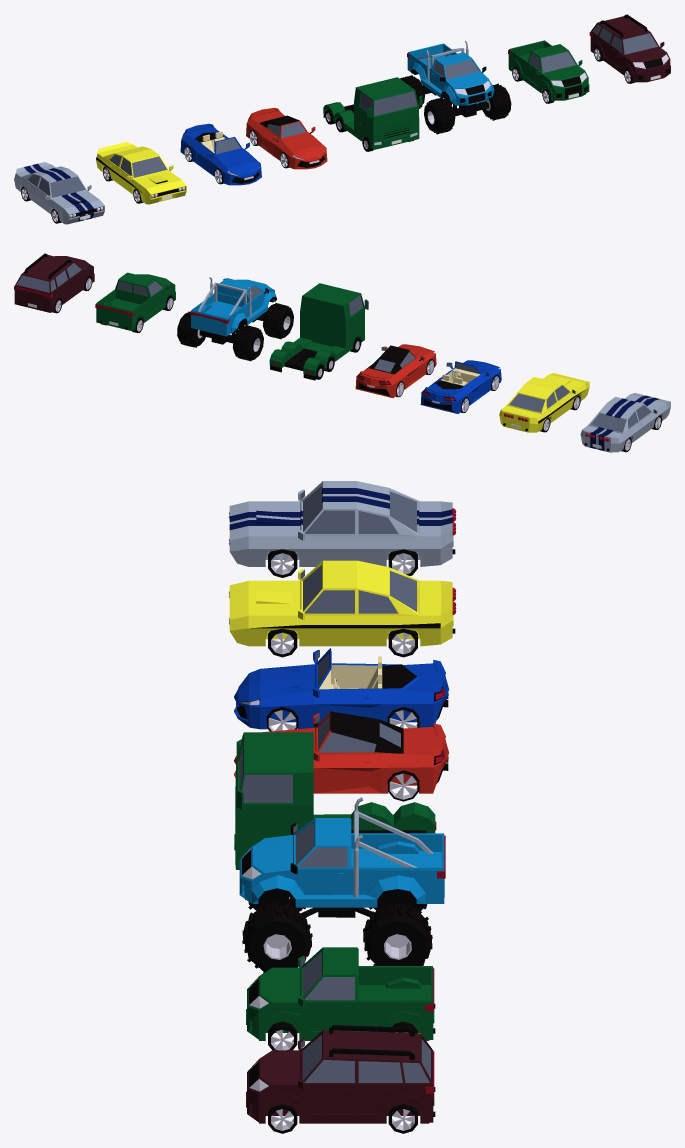
Rendered from Vehicles.fbx.
3 renders of one model, top to bottom at view 1: azimuth 30°, elevation 25°; view 2: azimuth 150°, elevation 25°; view 3: azimuth 270°, elevation 25°, orthographic. The views are drawn at different scales.
Visible parts, largest first — view 1: Truck, Monster Truck, SUV, Muscle, Muscle 2, Pickup, Sports, Roadster, Monster Truck wheel front right, Monster Truck wheel front left; view 2: Truck, Monster Truck, Muscle 2, Muscle, SUV, Pickup, Sports, Roadster, Monster Truck wheel rear right, Monster Truck wheel front right, Monster Truck wheel rear left; view 3: Monster Truck, Muscle, SUV, Muscle 2, Pickup, Roadster, Truck, Sports, Monster Truck wheel front left, Monster Truck wheel rear left.
Boxes of the visible parts, x1,y1,x2,y2 form: Truck: [323, 77, 422, 149]; Monster Truck: [407, 40, 494, 117]; SUV: [589, 14, 670, 82]; Muscle: [96, 142, 186, 204]; Muscle 2: [14, 162, 104, 224]; Pickup: [508, 40, 589, 100]; Sports: [246, 107, 327, 169]; Roadster: [180, 123, 261, 185]; Monster Truck wheel front right: [424, 97, 455, 134]; Monster Truck wheel front left: [482, 83, 511, 120]; Truck: [269, 283, 368, 380]; Monster Truck: [190, 277, 276, 344]; Muscle 2: [580, 393, 670, 452]; Muscle: [499, 373, 589, 432]; SUV: [14, 253, 94, 312]; Pickup: [95, 272, 175, 330]; Sports: [355, 344, 436, 398]; Roadster: [420, 360, 501, 413]; Monster Truck wheel rear right: [232, 325, 263, 361]; Monster Truck wheel front right: [263, 303, 293, 339]; Monster Truck wheel rear left: [177, 311, 205, 347]; Monster Truck: [239, 797, 445, 917]; Muscle: [229, 560, 456, 646]; SUV: [246, 1025, 435, 1123]; Muscle 2: [228, 481, 456, 566]; Pickup: [246, 947, 435, 1040]; Roadster: [234, 648, 449, 729]; Truck: [234, 732, 436, 869]; Sports: [234, 711, 448, 793]; Monster Truck wheel front left: [242, 902, 312, 972]; Monster Truck wheel rear left: [363, 902, 432, 965].
Bounding box in the file's own units: 3781 × 374 × 606.
